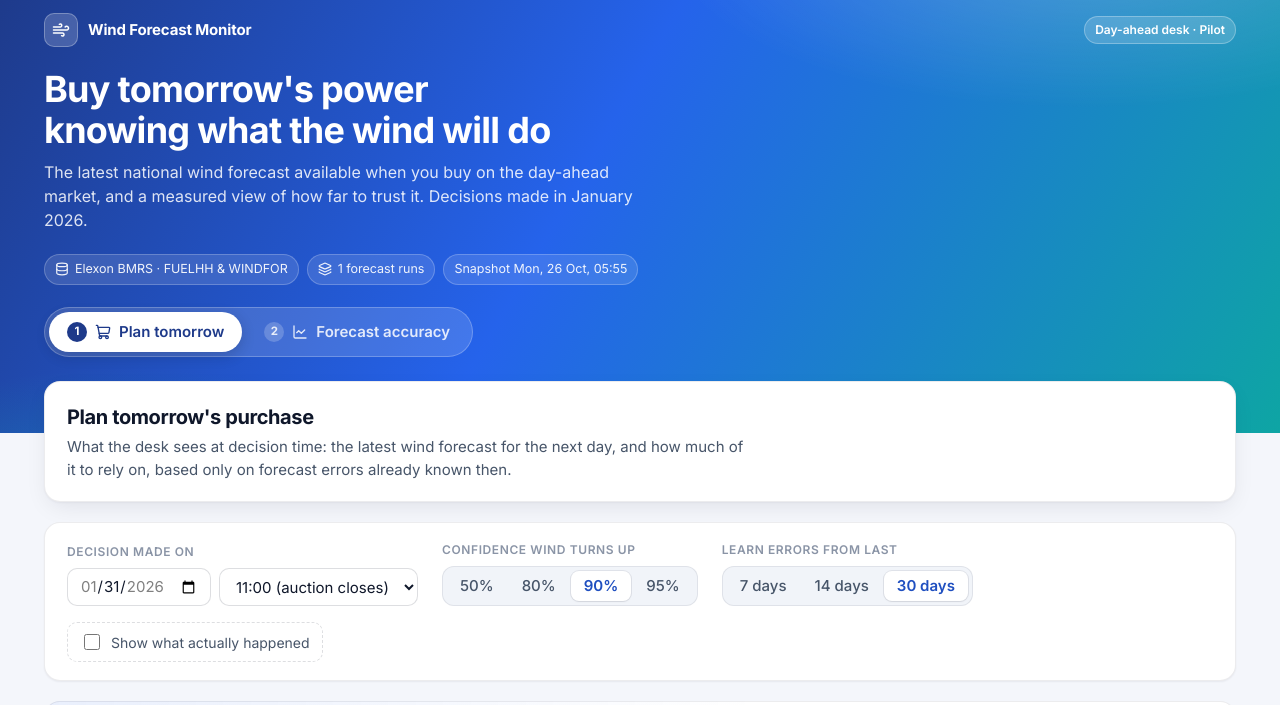
App › shows the headline and stat tiles for the default day-ahead view
The width and height of the screenshot is (1280, 705).
Click the tab "2 Forecast accuracy".
click(357, 332)  # box x1=246 y1=312 x2=468 y2=352
(page scrolled)
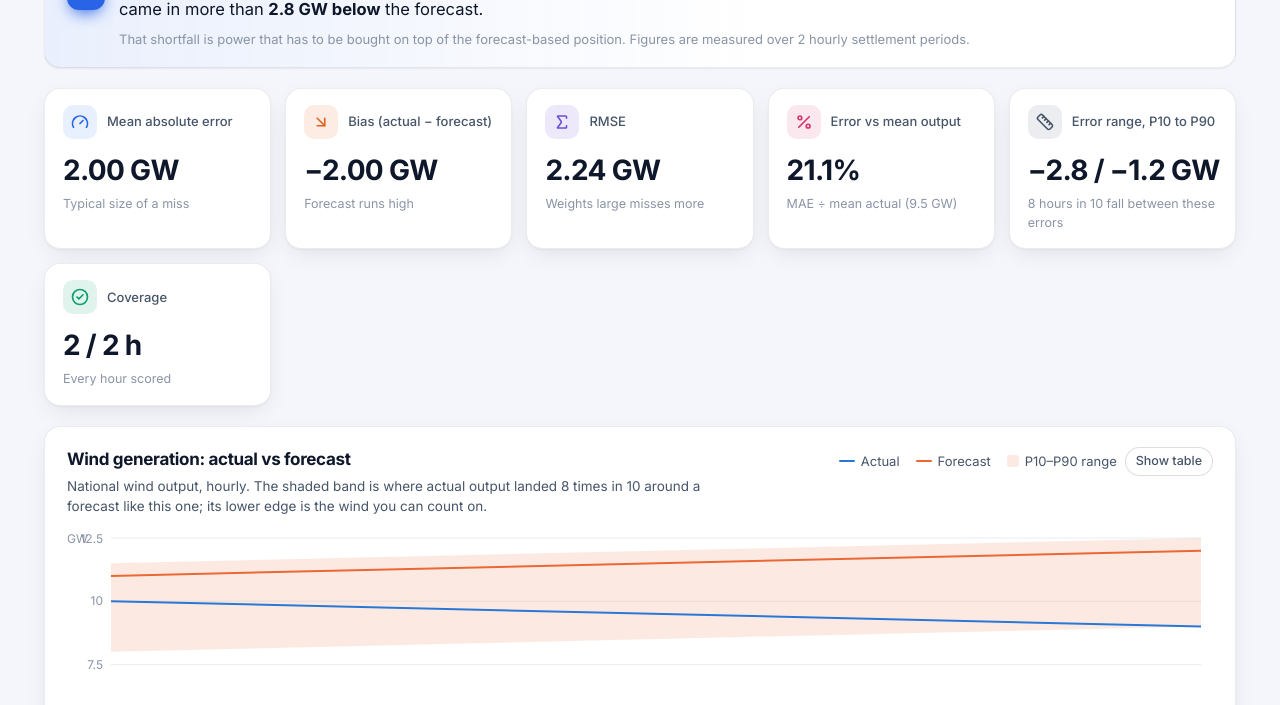
Check: the text "2.00 GW" is shown, box x1=63 y1=153 x2=179 y2=187
Check: the text "−2.00 GW" is shown, box x1=304 y1=153 x2=438 y2=187
Check: the text "2 / 2 h" is shown, box x1=63 y1=328 x2=142 y2=362
